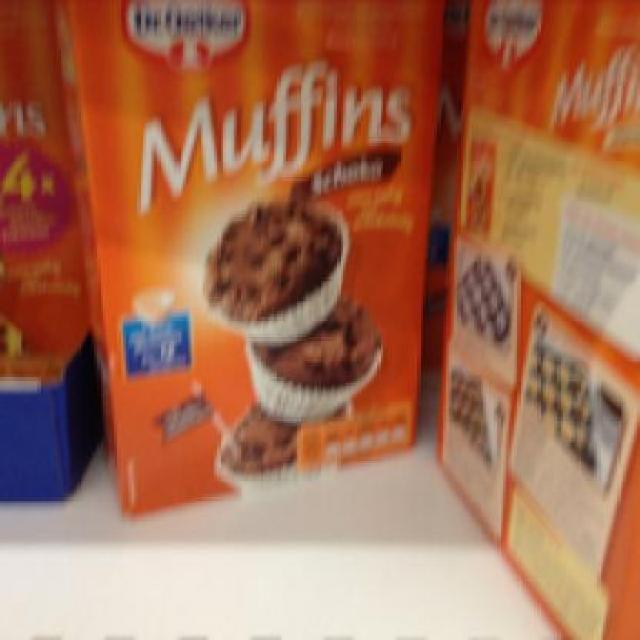Cake: (63, 0, 447, 512)
